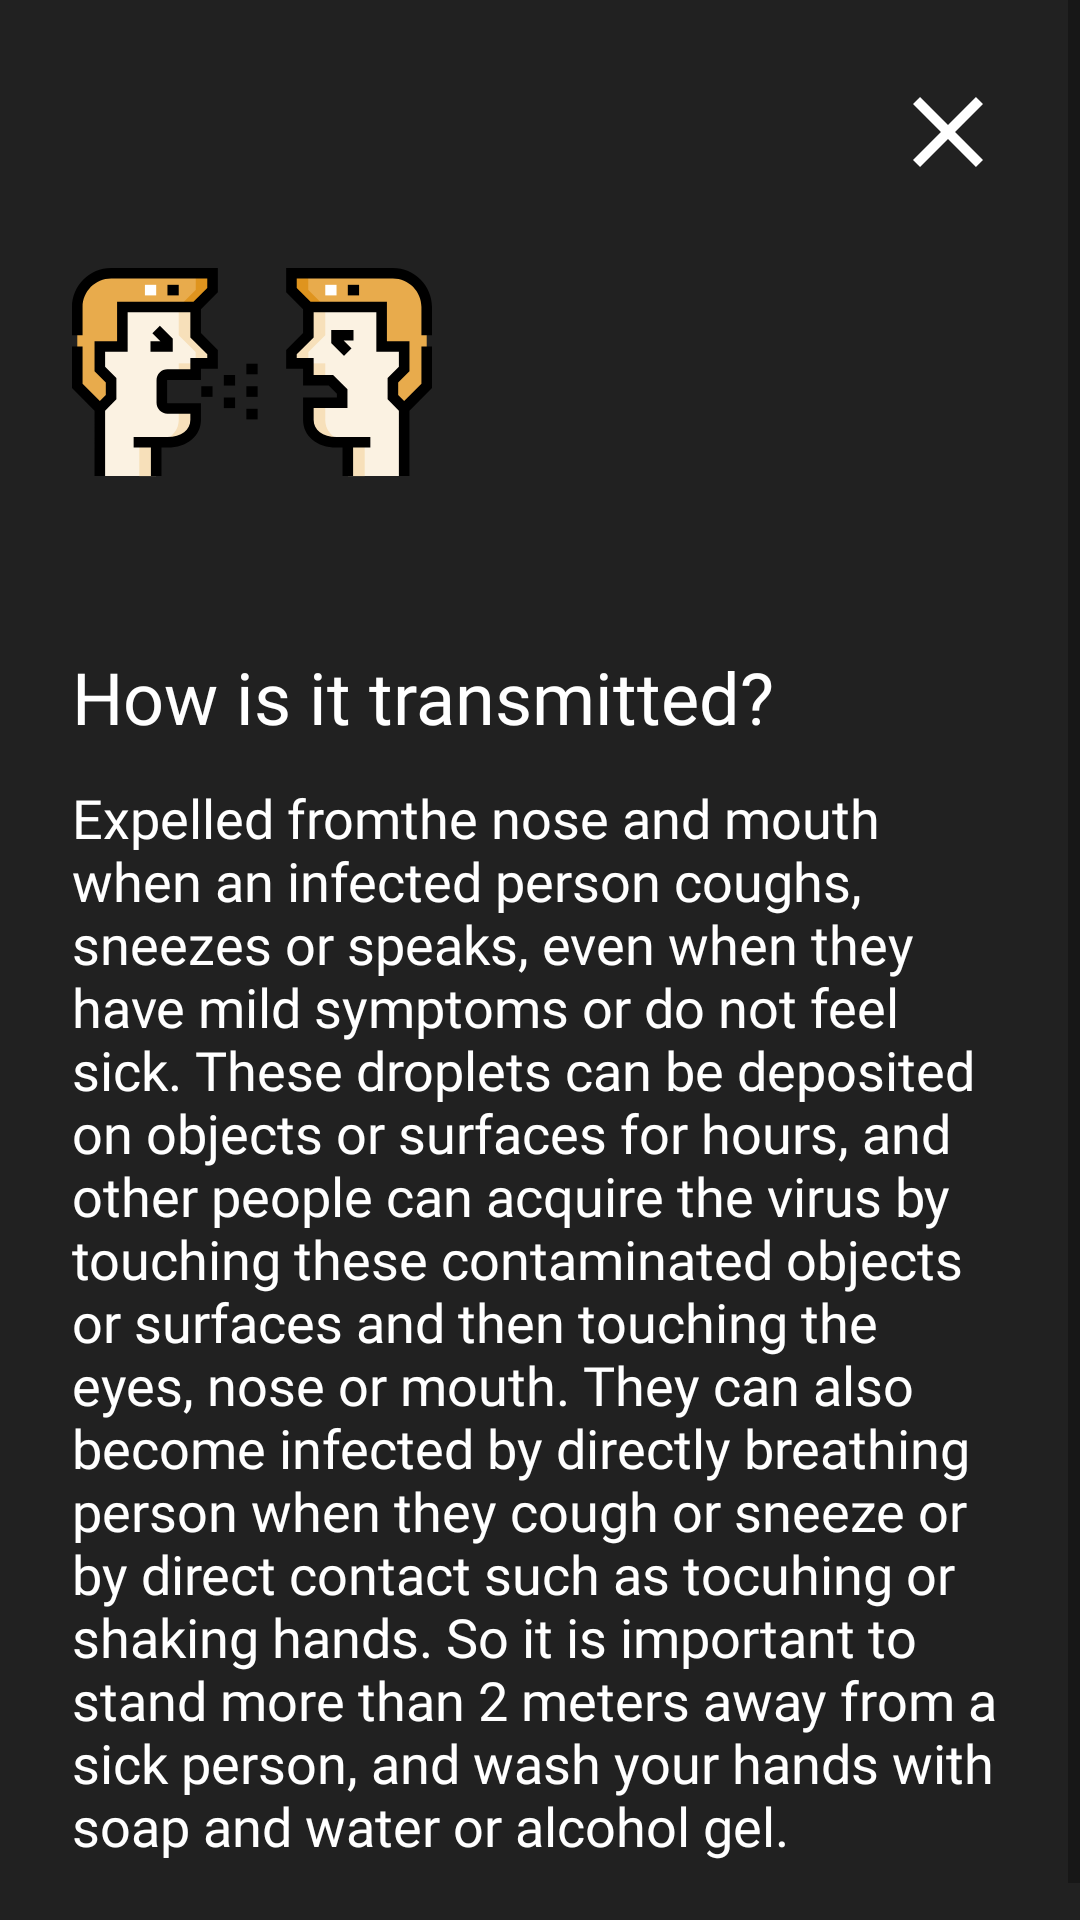

Icons on this 1080px×1920px Android screen, each with its box as box(x1, y1, x2, y2):
close: box(913, 97, 983, 167)
